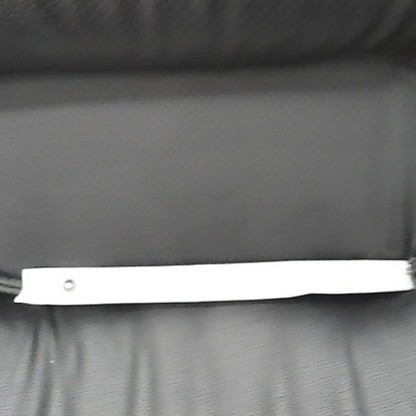ironball: (60, 274, 78, 293)
